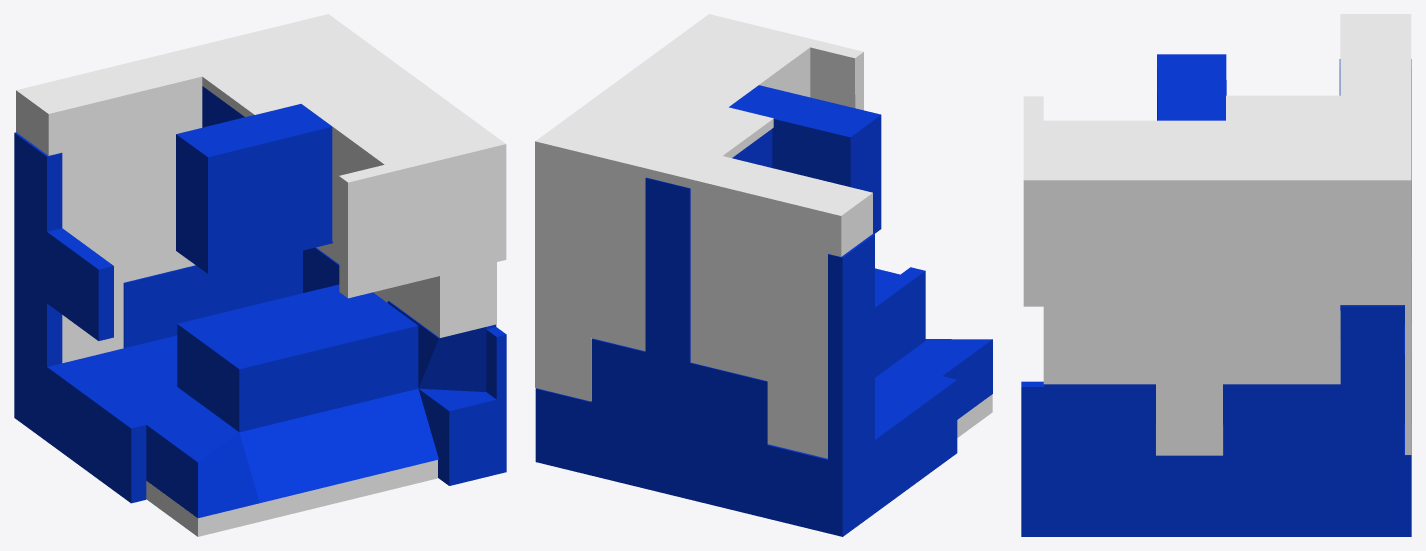
File: Cube dos.fbx
3 renders of one model, left to right at view 1: azimuth 30°, elevation 25°; view 2: azimuth 150°, elevation 25°; view 3: azimuth 270°, elevation 25°, orthographic. The views are drawn at different scales.
Parts seen in each view (by area): view 1: Cube.002, Cube.001; view 2: Cube.001, Cube.002; view 3: Cube.001, Cube.002.
Part boxes in pixels (<box>): Cube.002: <box>14,86,506,518</box>; Cube.001: <box>16,14,506,536</box>; Cube.001: <box>535,14,992,458</box>; Cube.002: <box>535,85,992,536</box>; Cube.001: <box>1023,14,1411,455</box>; Cube.002: <box>1021,54,1411,536</box>.
Bounding box in the file's own units: 749 × 745 × 738.
